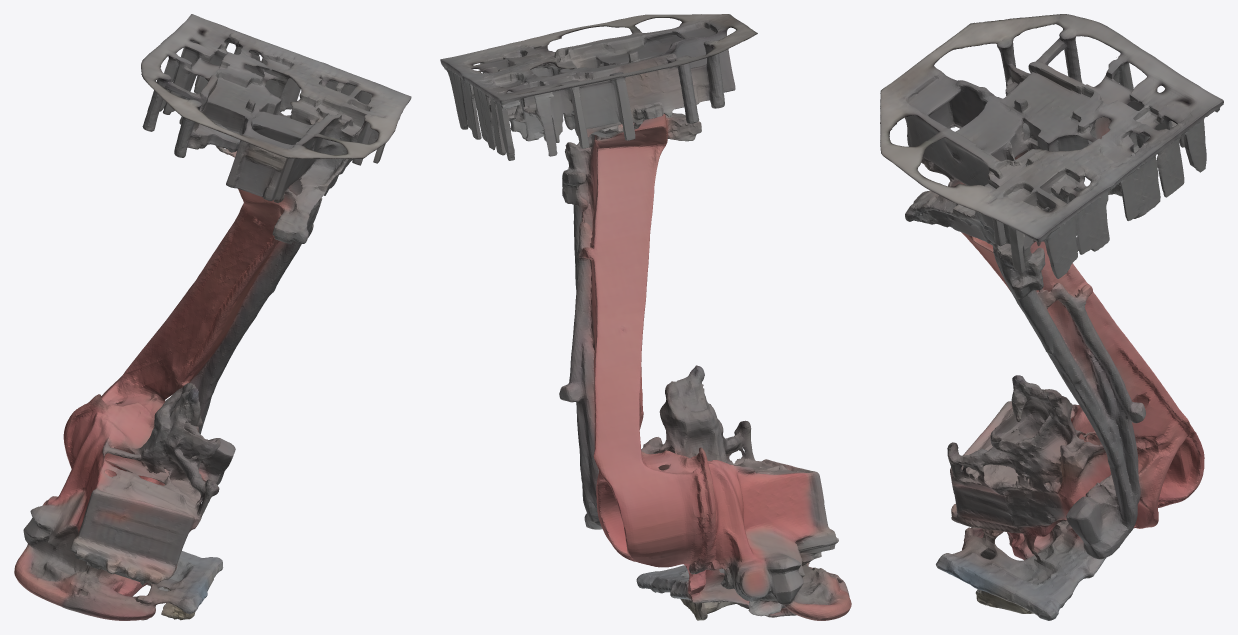
The model's file is robot-v3.glb.
The picture shows the model from 3 angles, left to right: view 1: azimuth 30°, elevation 25°; view 2: azimuth 150°, elevation 25°; view 3: azimuth 270°, elevation 25°; orthographic projection. The views are drawn at different scales.
Parts seen in each view (by area): view 1: world; view 2: world; view 3: world.
Part boxes in pixels (x1,y1,x2,y2): world: [14, 14, 411, 620]; world: [440, 14, 851, 620]; world: [880, 14, 1223, 620].
Size of the model in its own units: 2.34 by 3.1 by 1.63.
